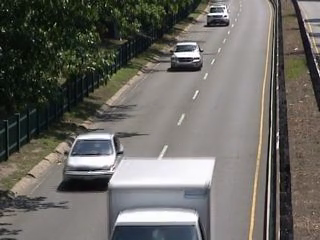car: (57, 130, 126, 186), (167, 39, 210, 72), (202, 2, 233, 29)
truck: (103, 153, 223, 240)
